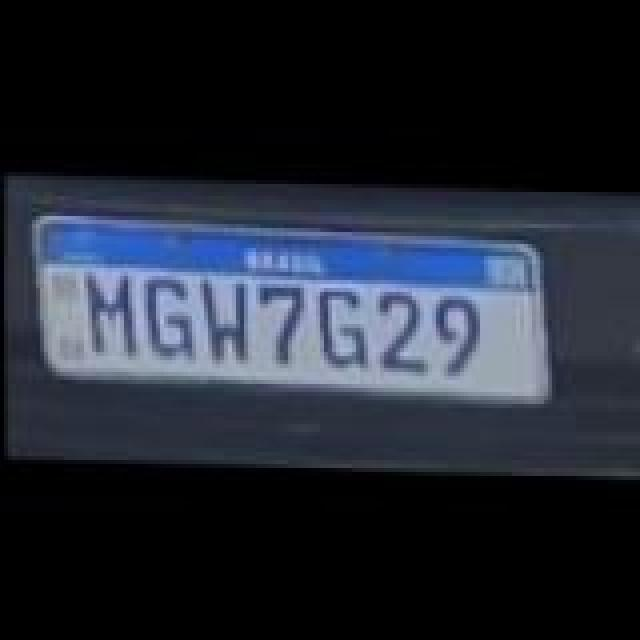2: (374, 286, 434, 366)
7: (256, 284, 312, 364)
9: (432, 292, 488, 372)
G: (138, 274, 198, 358), (314, 284, 374, 364)
M: (78, 268, 146, 352)
W: (198, 274, 258, 358)
